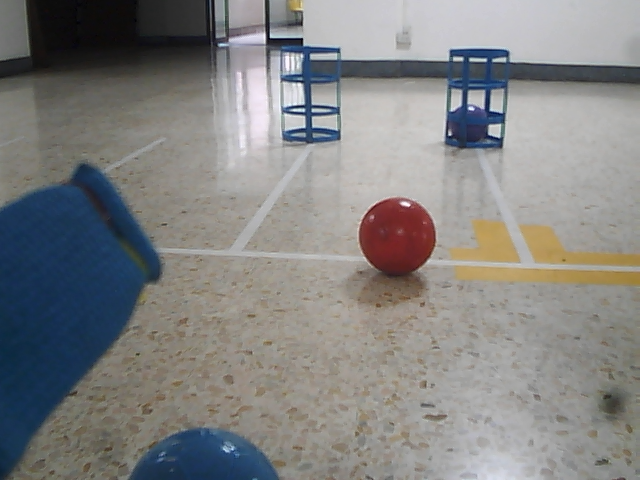Blue ball: (125, 424, 285, 480)
Cyro: (441, 45, 512, 154), (276, 43, 346, 151)
Purple ball: (448, 101, 490, 147)
Red ball: (357, 195, 438, 278)
